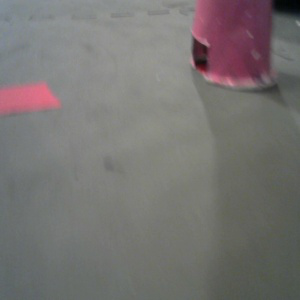right: (189, 1, 279, 92)
